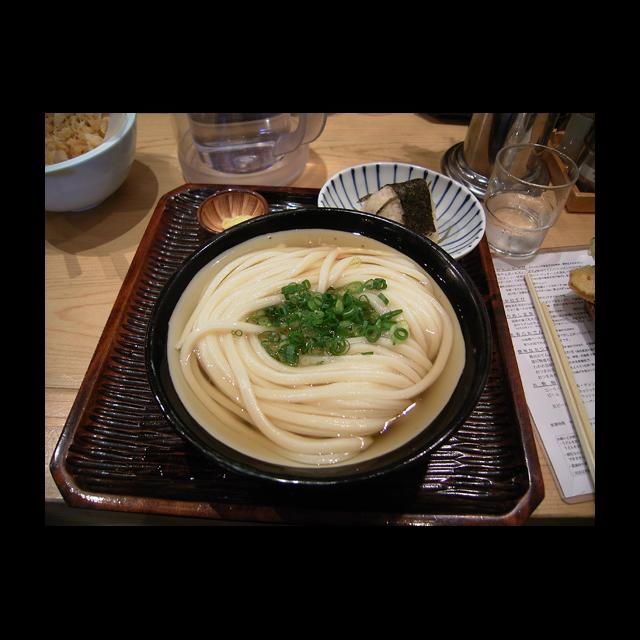noodles: (164, 234, 458, 468)
